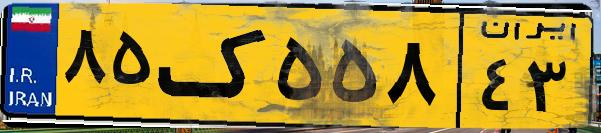3: (525, 38, 570, 115)
4: (475, 38, 525, 113)
5: (270, 28, 330, 110), (330, 28, 385, 110), (110, 28, 158, 98)
8: (385, 28, 445, 110), (57, 26, 110, 100)
ک: (158, 12, 270, 120)
